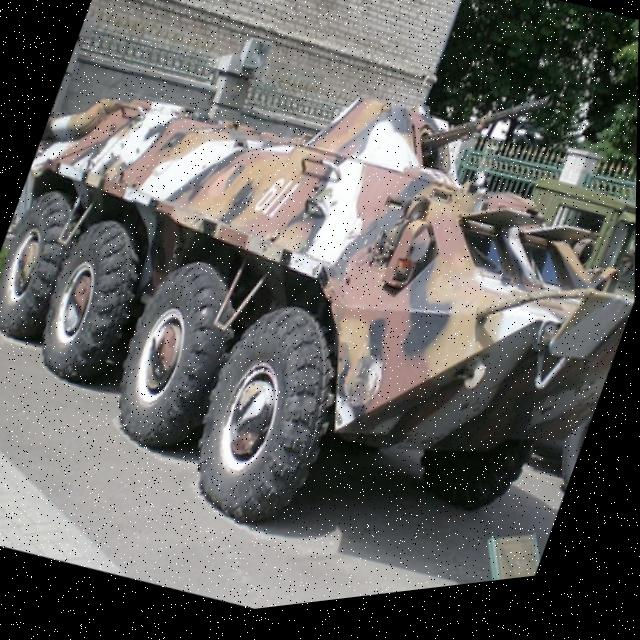MIL_APC: (0, 0, 640, 631)
